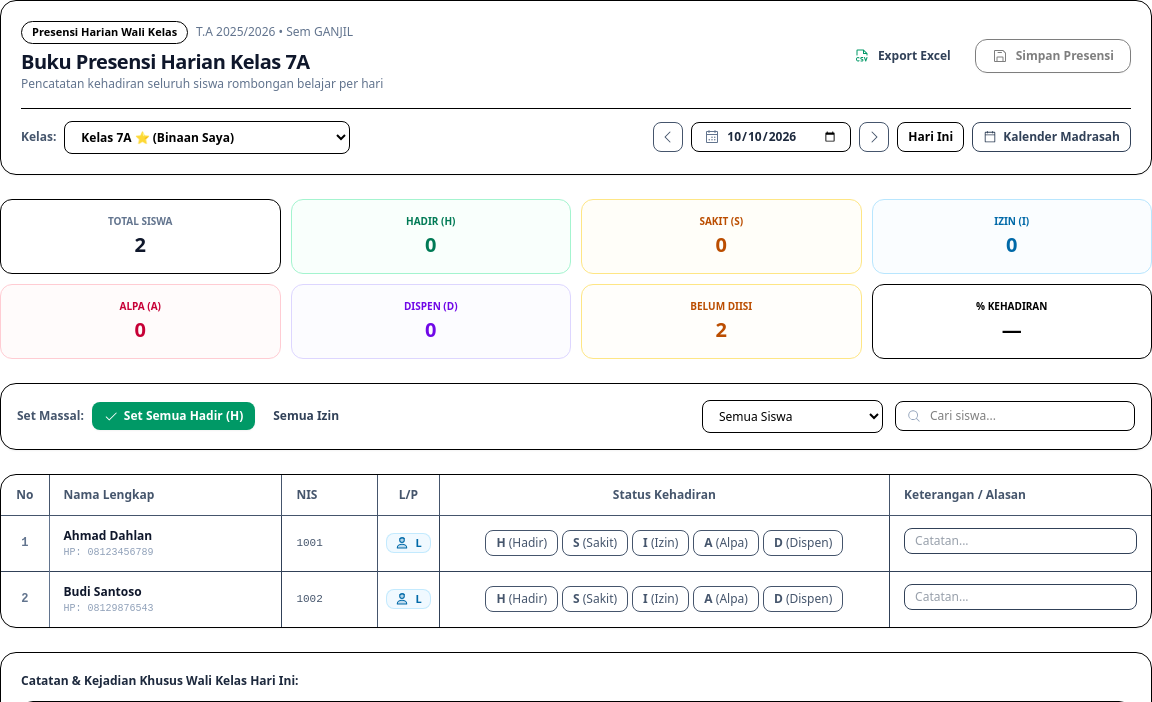
Scenario: HomeroomDailyAttendancePage UX & Initial-State Implementation › 10. excludes UNSET students from NOT_PRESENT filter
This screenshot has width=1152, height=702.
Expected: the text "Ahmad Dahlan" is shown, x1=64 y1=526 x2=152 y2=544
Note: Ahmad is PRESENT, Budi is null
Click the button "H (Hadir)" in the row of "Ahmad Dahlan" at (522, 543), box x1=485 y1=530 x2=558 y2=556
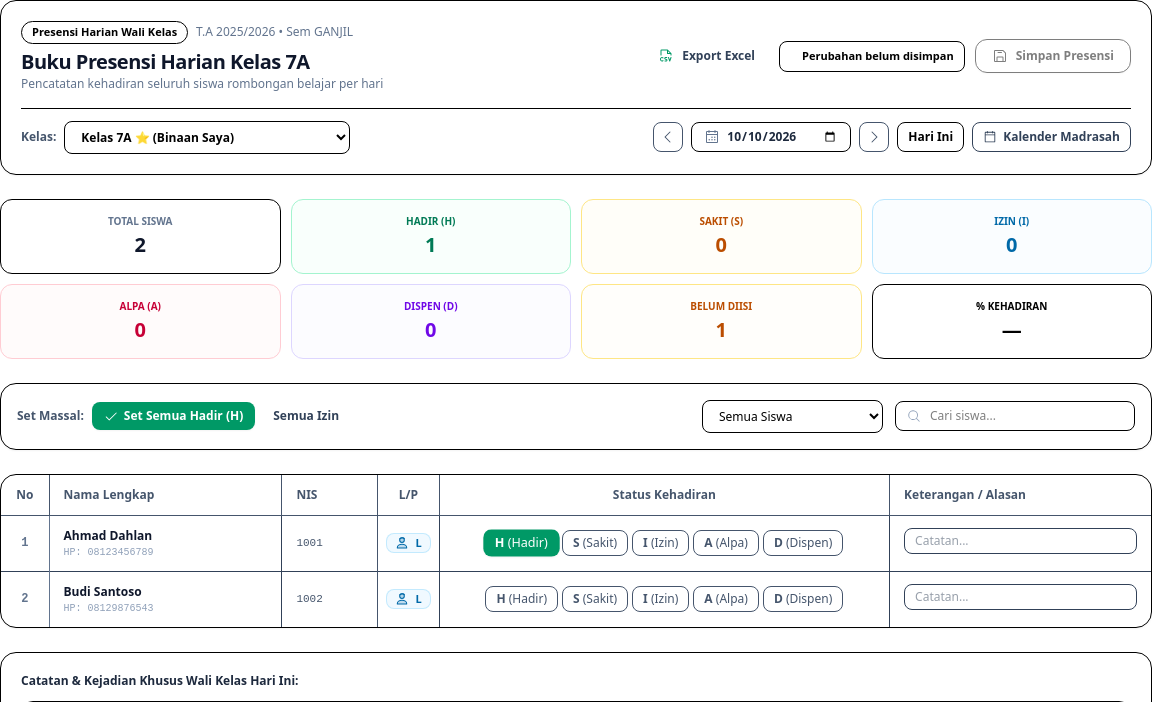
Note: Filter to NOT_PRESENT (Hanya yang Tidak Hadir)
Select "Hanya yang Tidak Hadir" in the 2nd dropdown at (792, 416), box x1=702 y1=400 x2=883 y2=432
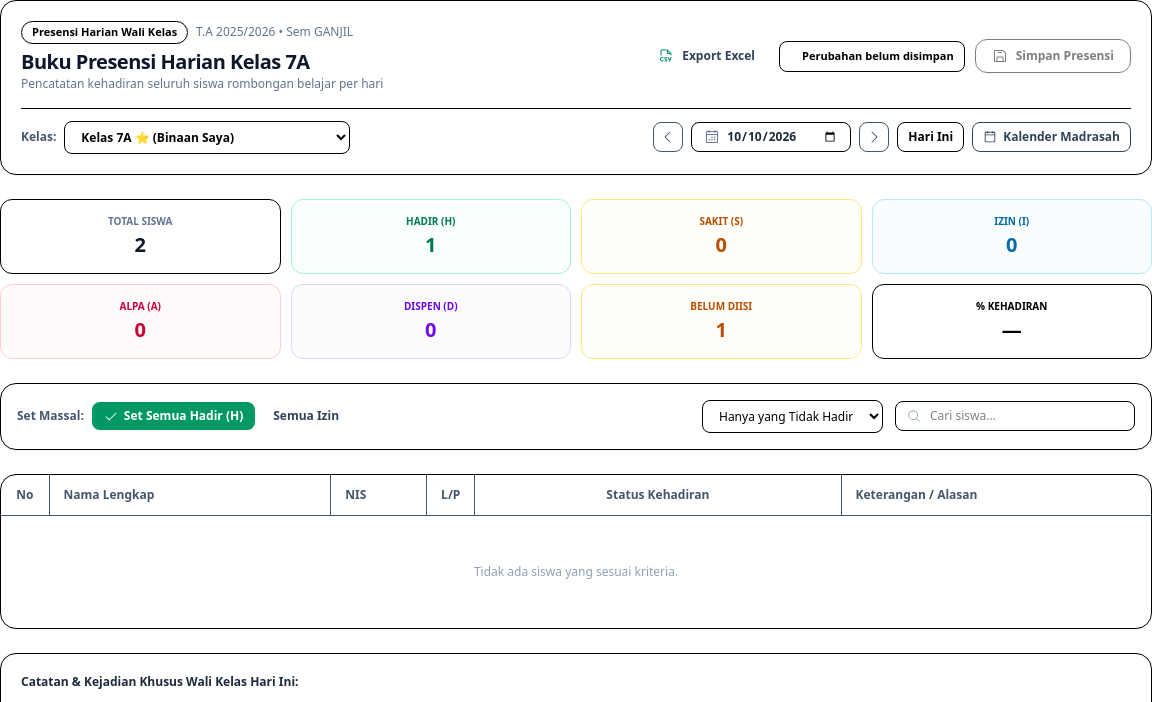
Result: the text "Ahmad Dahlan" is gone
Result: the text "Budi Santoso" is gone
Result: the text "Tidak ada siswa yang sesuai kriteria." is shown at x1=1 y1=515 x2=1151 y2=628
